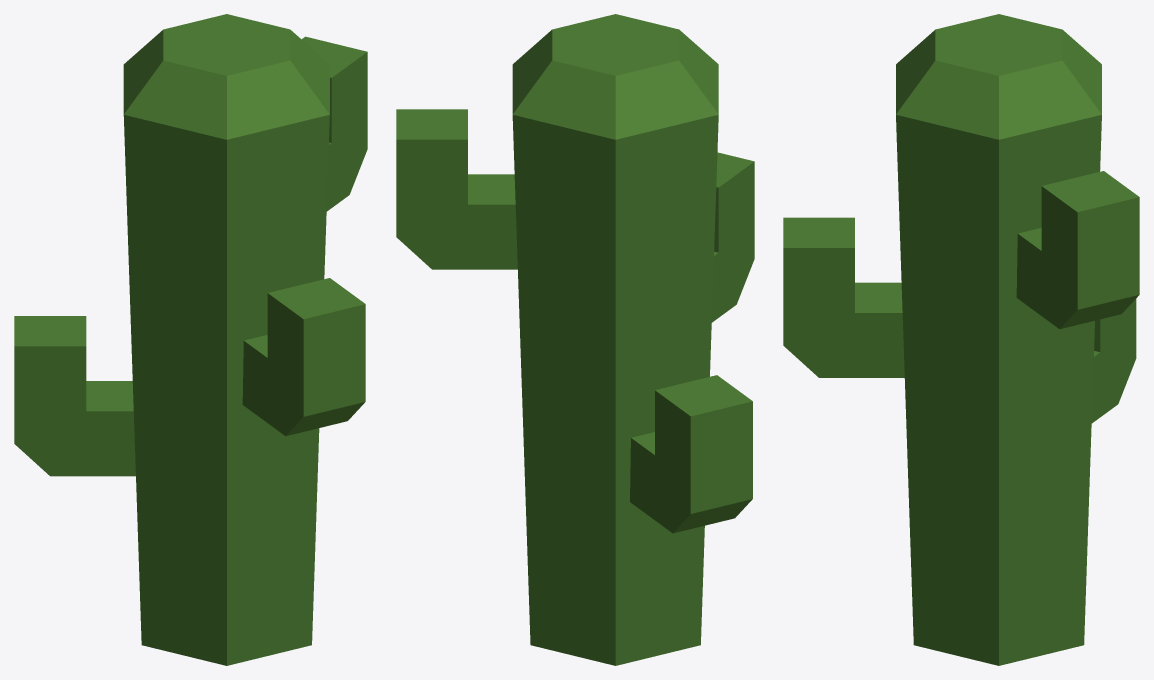
Rendered from proto_cactus_short.glb.
3 renders of one model, left to right at view 1: azimuth 30°, elevation 25°; view 2: azimuth 150°, elevation 25°; view 3: azimuth 270°, elevation 25°, orthographic.
Visible parts, largest first — view 1: cactus_short; view 2: cactus_short; view 3: cactus_short.
Boxes of the visible parts, x1,y1,x2,y2 form: cactus_short: (14, 14, 367, 665); cactus_short: (396, 14, 754, 665); cactus_short: (783, 14, 1139, 665).
Bounding box in the file's own units: 1.03 × 1.6 × 0.8921.
